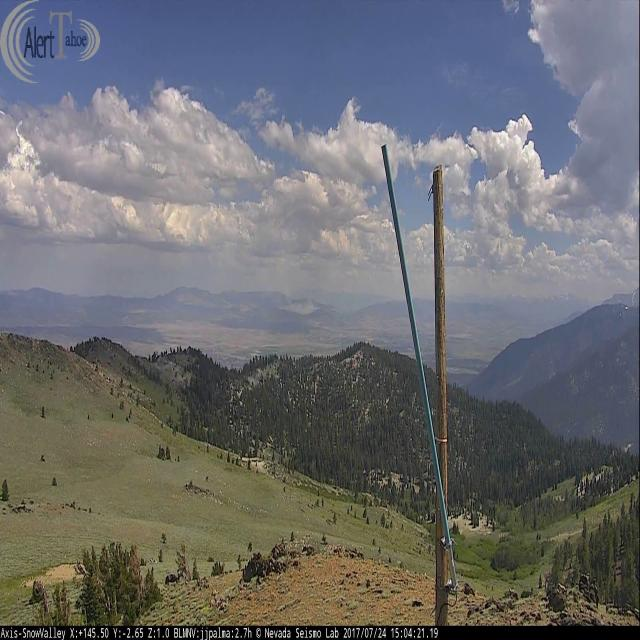smoke: (278, 285, 321, 314)
